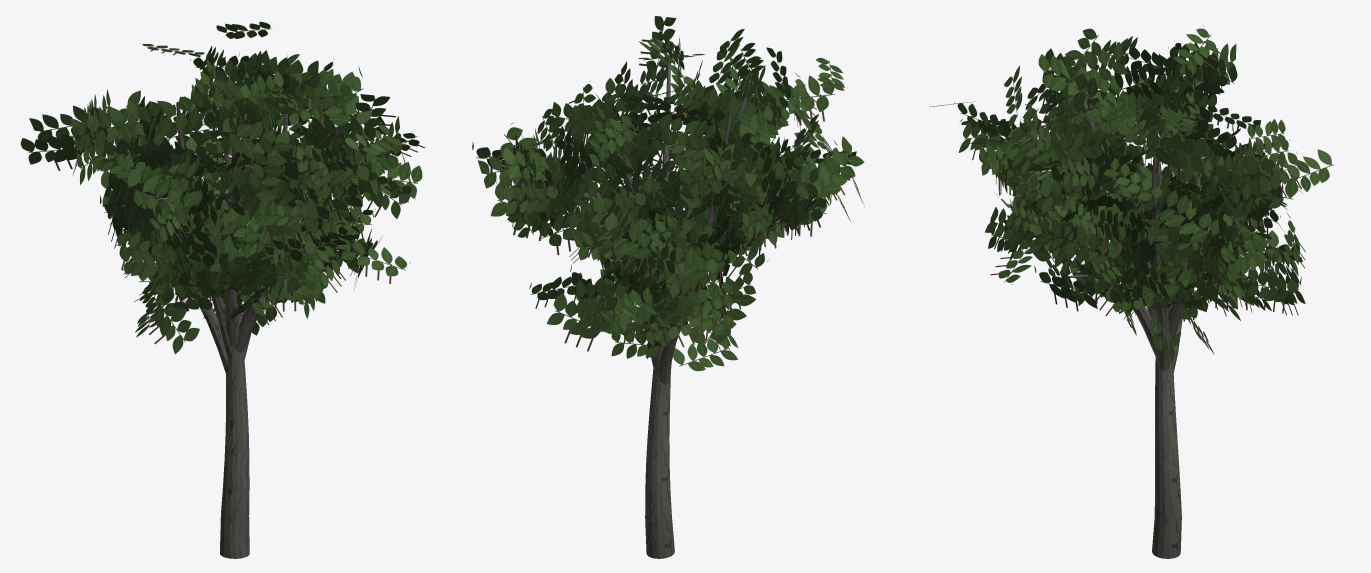
Rendered from aliso.glb.
The picture shows the model from 3 angles, left to right: view 1: azimuth 30°, elevation 25°; view 2: azimuth 150°, elevation 25°; view 3: azimuth 270°, elevation 25°; orthographic projection. The views are drawn at different scales.
Parts seen in each view (by area): view 1: Aliso_Hojas, Aliso_Tronco; view 2: Aliso_Hojas, Aliso_Tronco; view 3: Aliso_Hojas, Aliso_Tronco.
Boxes of the visible parts, bbox=[...] form: Aliso_Hojas: bbox=[20, 21, 424, 353]; Aliso_Tronco: bbox=[70, 62, 354, 558]; Aliso_Hojas: bbox=[472, 16, 864, 371]; Aliso_Tronco: bbox=[500, 61, 809, 558]; Aliso_Hojas: bbox=[930, 25, 1334, 362]; Aliso_Tronco: bbox=[1034, 74, 1248, 558].
Bounding box in the file's own units: 5.52 × 7.77 × 6.22.
2 materials, 2 textured.
